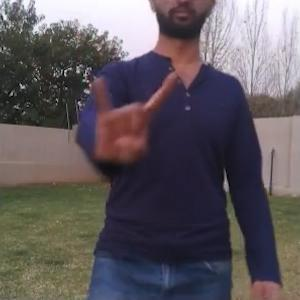takeoff-hand: (84, 63, 176, 171)
